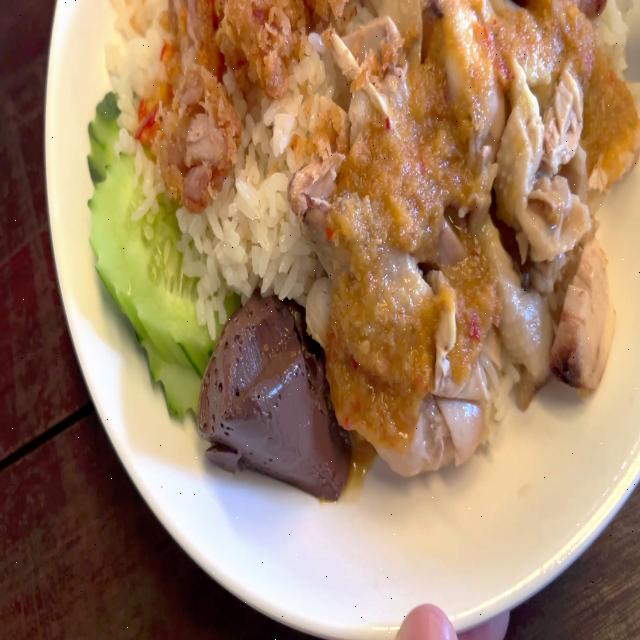boiled_chicken: (310, 9, 624, 396)
boiled_chicken_blood_jelly: (196, 292, 342, 492)
chicken_rice: (86, 0, 640, 489)
cucumber: (79, 80, 214, 406)
fried_chicken: (152, 0, 309, 204)
